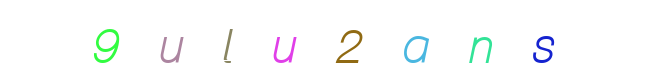2: (290, 0, 370, 80)
9: (67, 0, 147, 80)
A: (338, 0, 418, 80)
L: (244, 0, 324, 80)
N: (401, 0, 481, 80)
S: (503, 0, 583, 80)
U: (177, 0, 257, 80), (279, 0, 359, 80)
